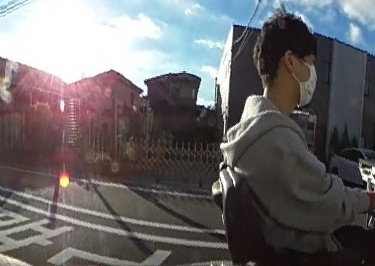person: (225, 10, 375, 256)
